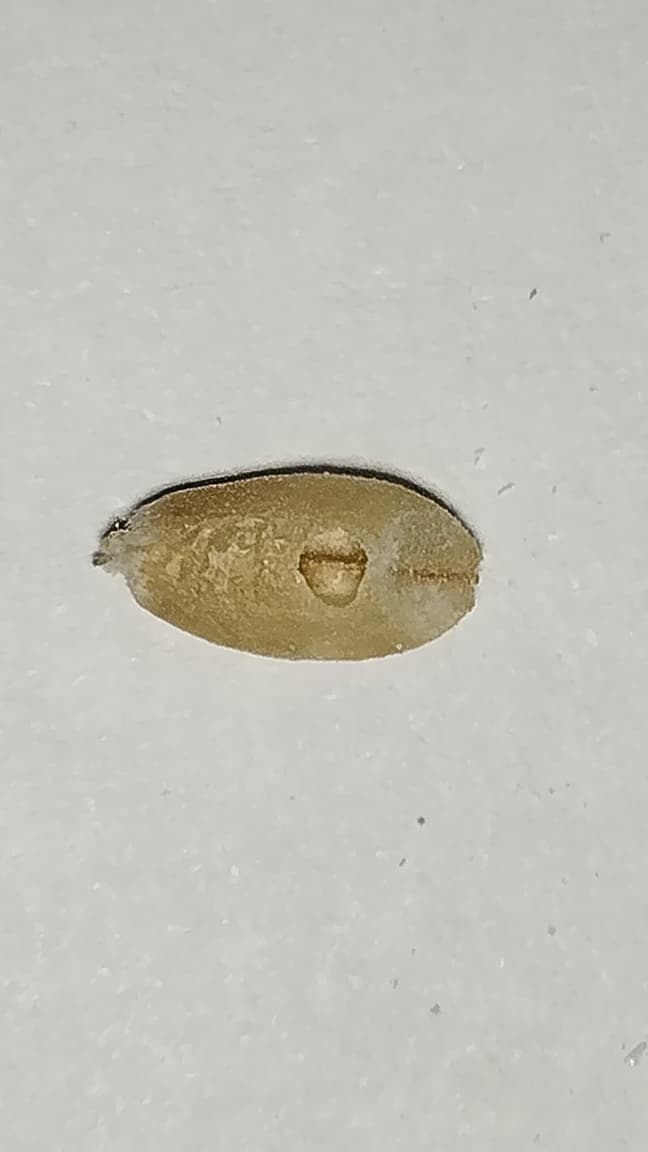damage: (92, 463, 481, 660)
insectdamage: (381, 489, 482, 649), (289, 520, 368, 621)
